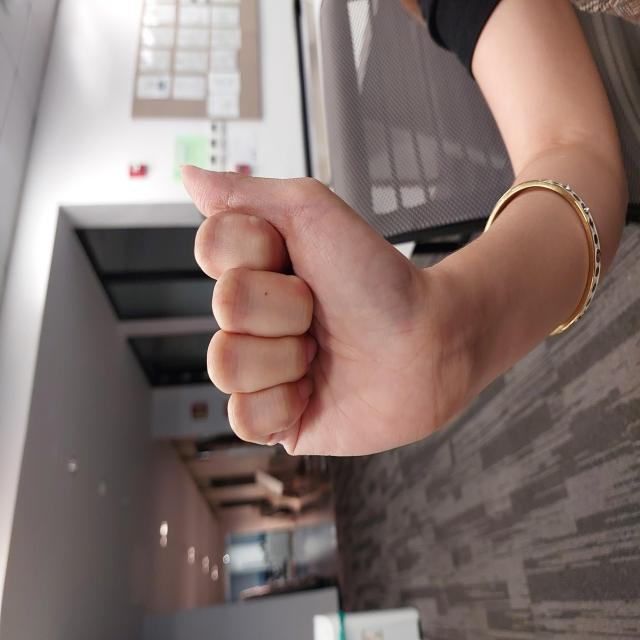A: (181, 176, 479, 462)
